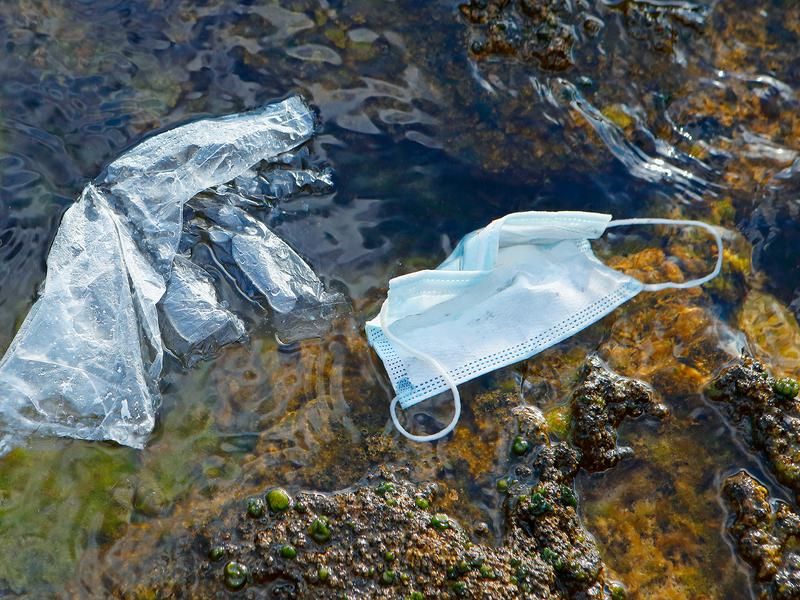gloves: (1, 92, 346, 449)
mask: (358, 194, 727, 446)
